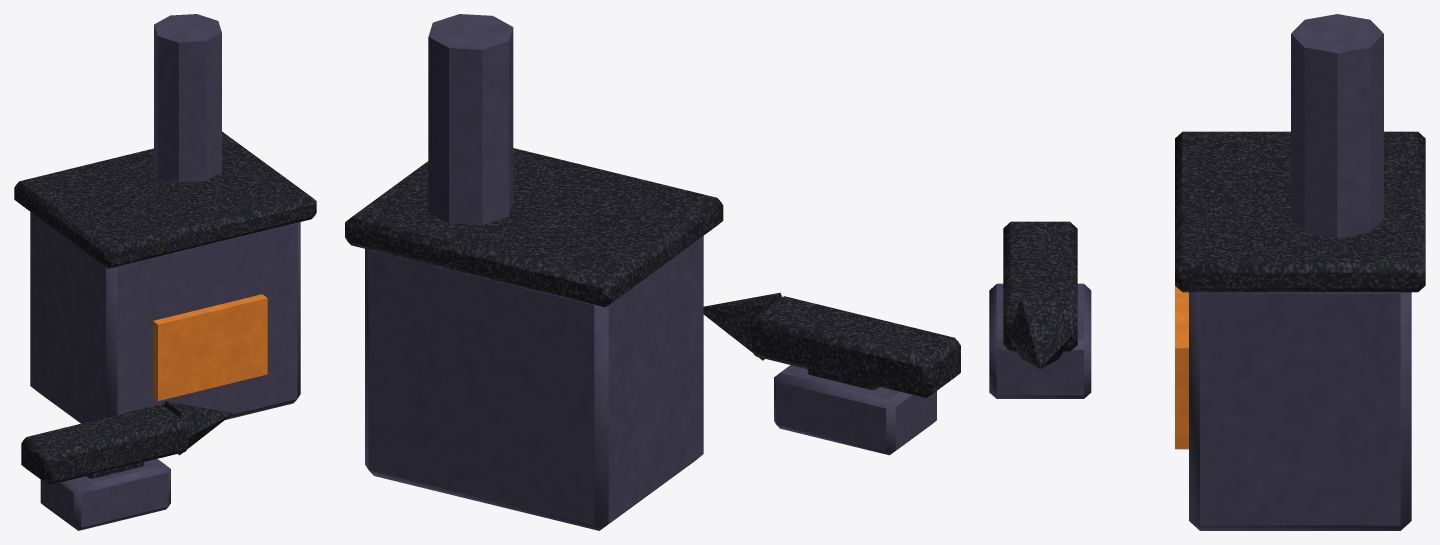
Rendered from forge.fbx.
The picture shows the model from 3 angles, left to right: view 1: azimuth 30°, elevation 25°; view 2: azimuth 150°, elevation 25°; view 3: azimuth 270°, elevation 25°; orthographic projection. The views are drawn at different scales.
Parts seen in each view (by area): view 1: Forge; view 2: Forge; view 3: Forge.
Part boxes in pixels (bbox=[...]): Forge: bbox=[14, 14, 316, 530]; Forge: bbox=[345, 14, 960, 530]; Forge: bbox=[989, 14, 1425, 530].
Bounding box in the file's own units: 3.7 × 3.67 × 3.13.
Materials: 1 (1 with a texture image).
